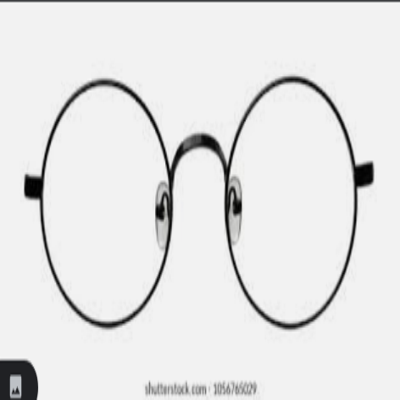glasses: (22, 73, 376, 337)
